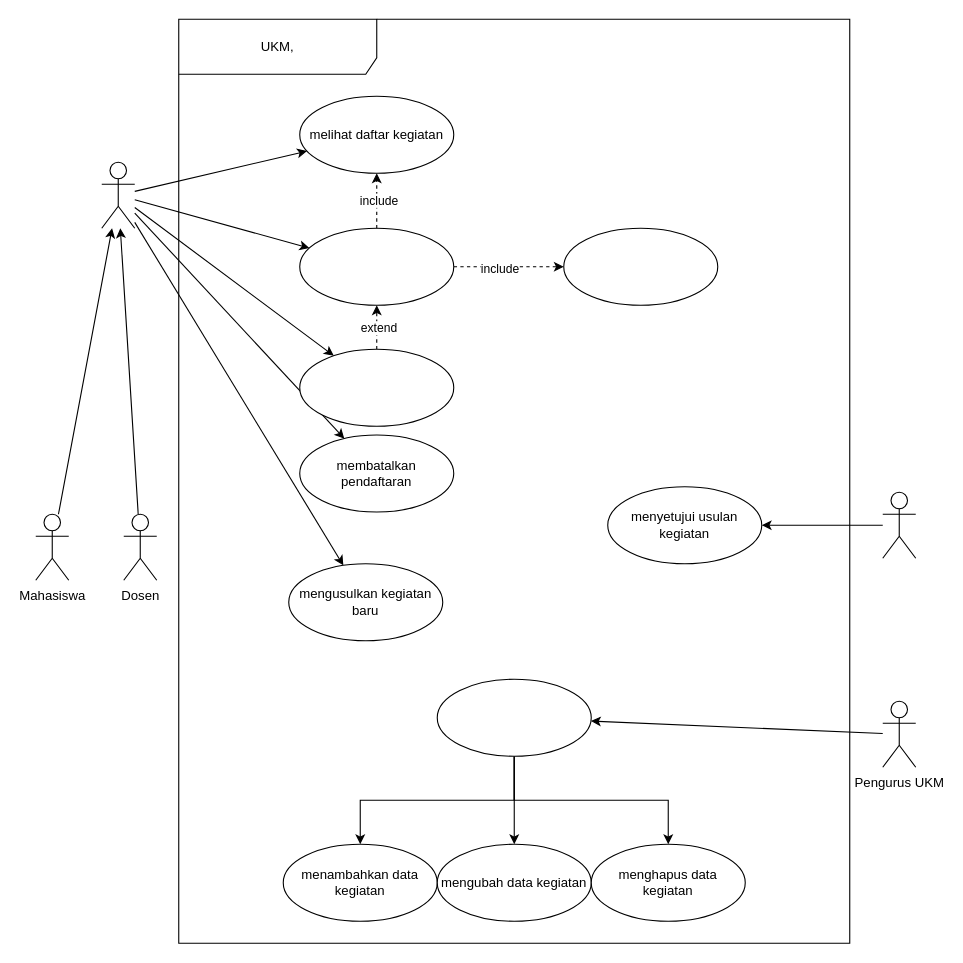
Some shapes in this 963 by 963 pixel diagram are drawn without their labels. The centre of each missing label's shape, as x and y in pixels:
memeriksa kuota kegiatam: point 640,266
mencetak kartu peserta: point 376,387
mendaftar kegiatan: point 376,266
mengelola data: point 513,717
pembina UKM: point 899,524
Peserta: point 118,194
